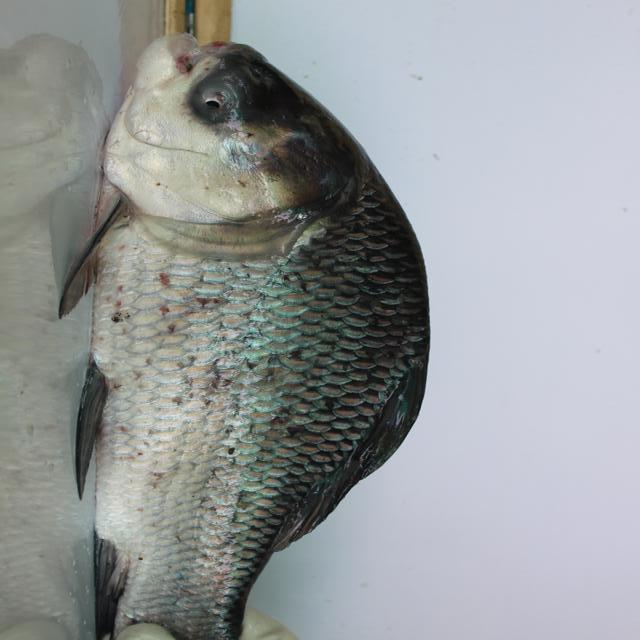Indian Carp: (54, 32, 435, 640)
